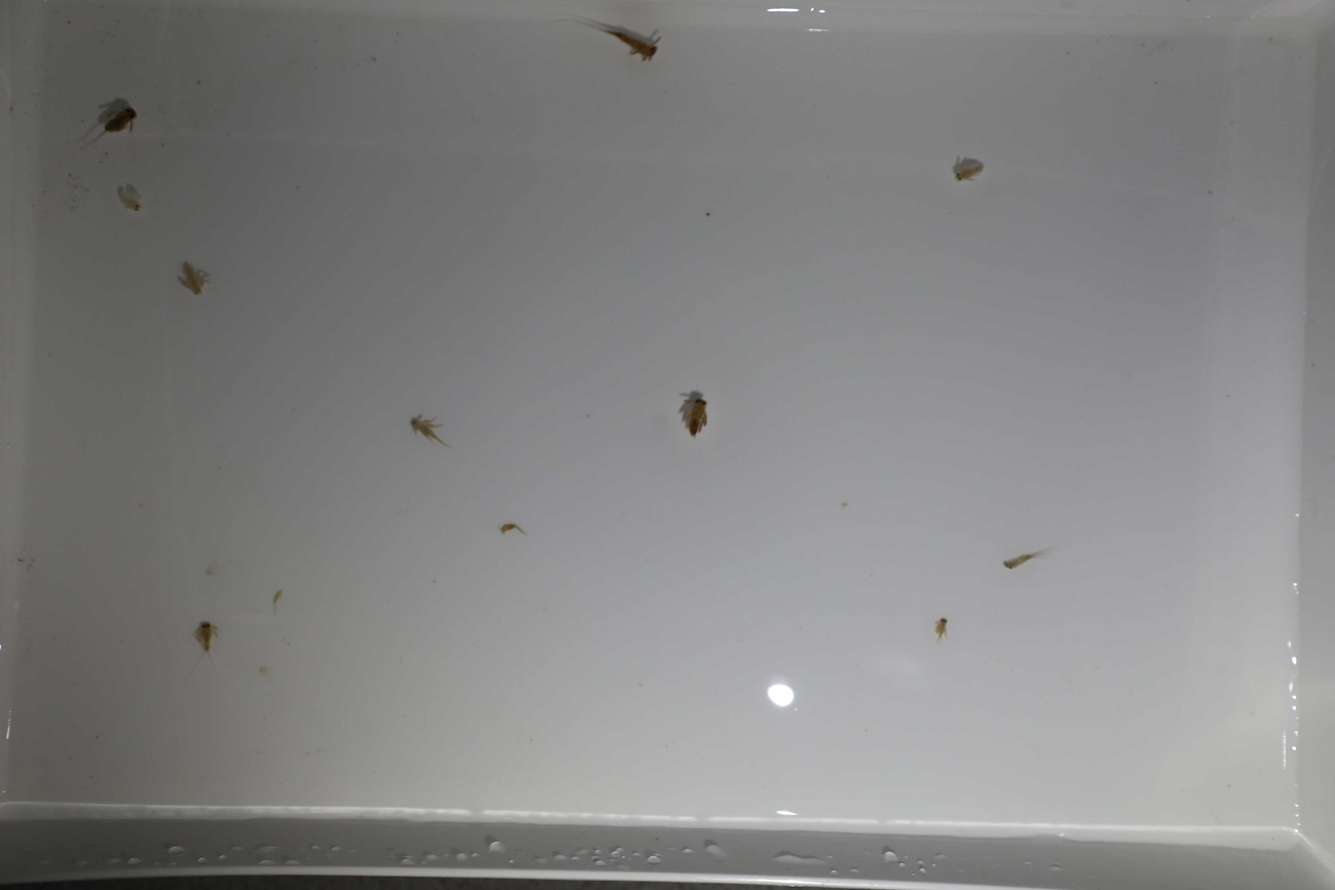Mayfly: (548, 15, 669, 71), (78, 102, 140, 154), (670, 385, 715, 443), (403, 408, 451, 454), (994, 545, 1050, 576), (948, 154, 989, 193), (187, 613, 218, 662), (923, 604, 959, 642), (112, 185, 149, 218), (178, 259, 210, 297)
